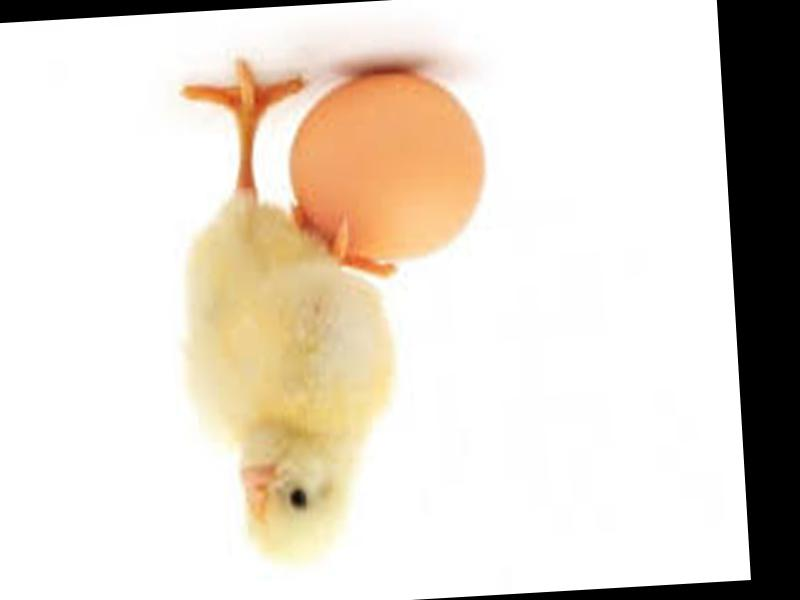Eggs: (280, 68, 492, 276)
